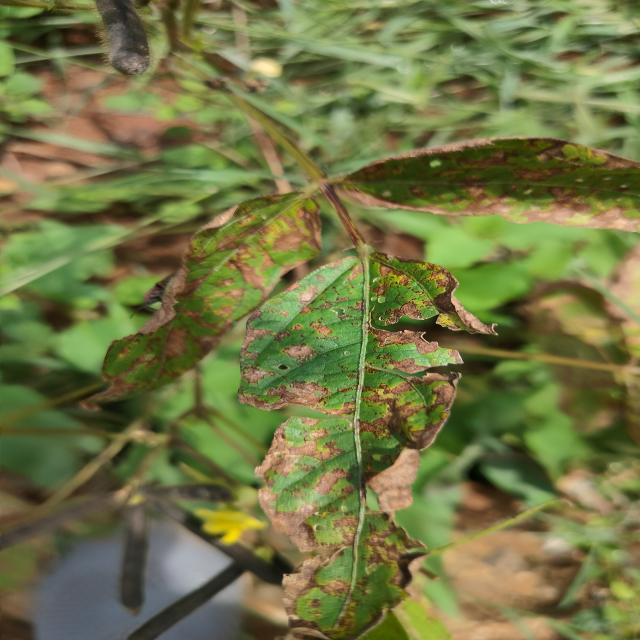Black gram_leaf spot: (240, 253, 482, 640), (86, 192, 320, 404), (337, 136, 640, 231)
